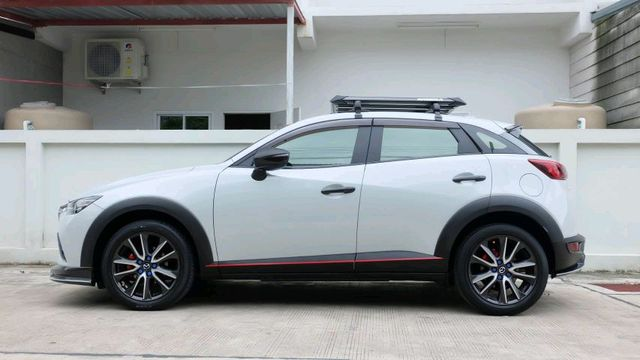pickup: (52, 110, 588, 315)
